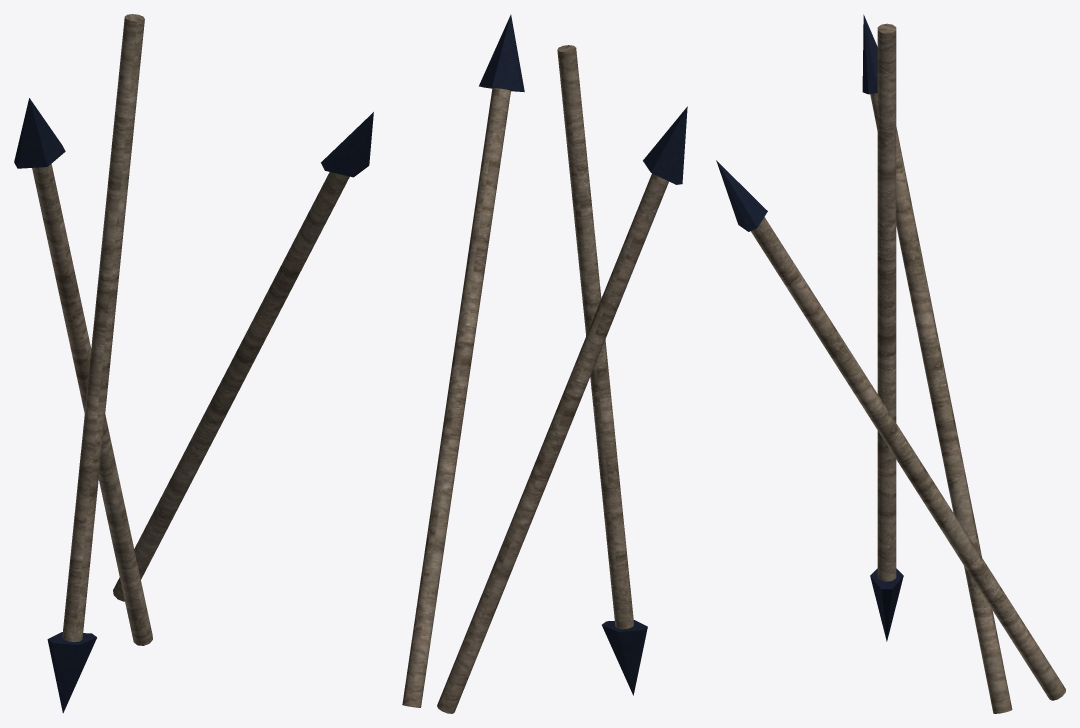
File: Lanzas.fbx
The picture shows the model from 3 angles, left to right: view 1: azimuth 30°, elevation 25°; view 2: azimuth 150°, elevation 25°; view 3: azimuth 270°, elevation 25°; orthographic projection. The views are drawn at different scales.
Visible parts, largest first — view 1: pCylinder7; view 2: pCylinder7; view 3: pCylinder7.
Part boxes in pixels (bbox=[...]): pCylinder7: bbox=[14, 14, 373, 713]; pCylinder7: bbox=[402, 14, 687, 713]; pCylinder7: bbox=[716, 14, 1065, 713].
Size of the model in its own units: 10.42 by 24.14 by 11.69.
Materials: 1 (1 with a texture image).
